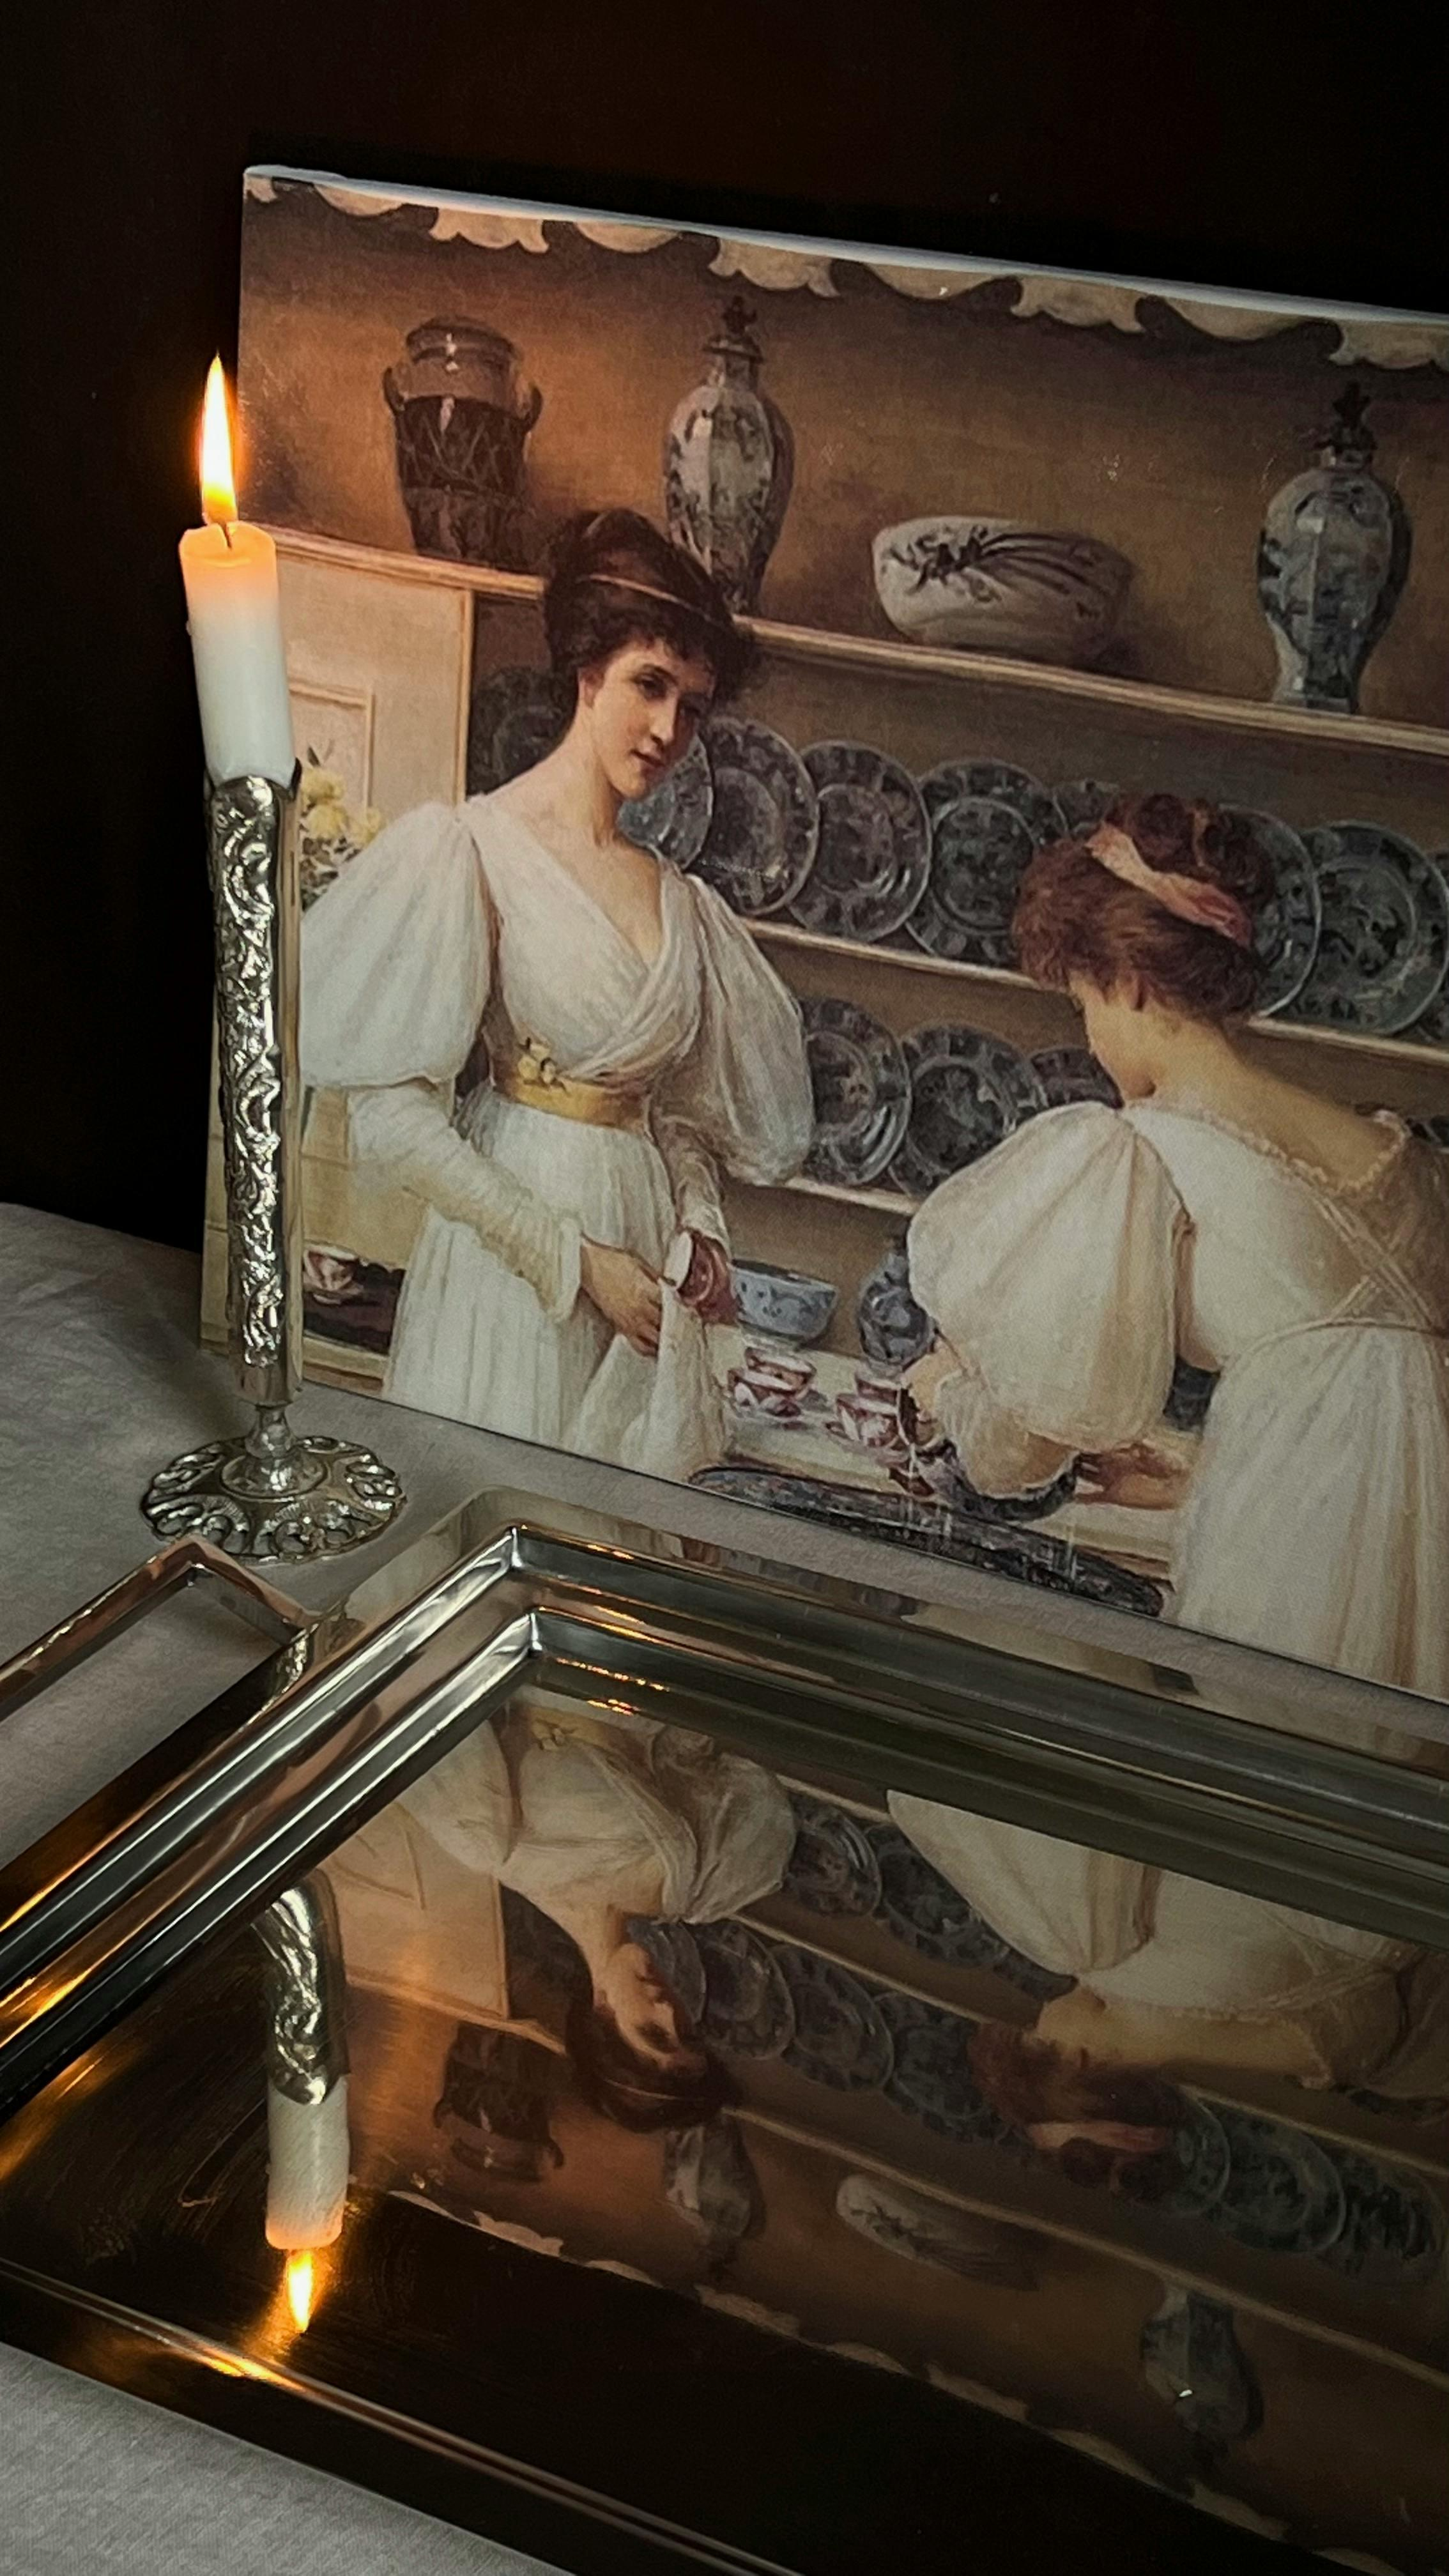Fire: (173, 327, 257, 531), (244, 2256, 349, 2365)
